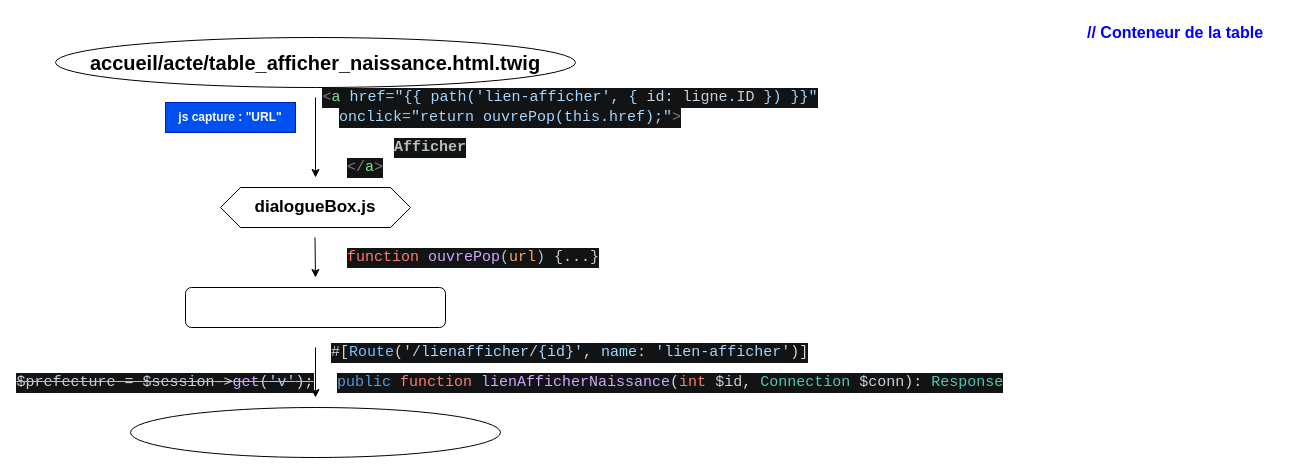
This 1303x475 diagram has some shape labels left out. Here are the shapes that lost their labels. From the top down, the centre of each, then its label:
point 315,307: ActeController.php
point 315,432: output/afficher.html.twig
